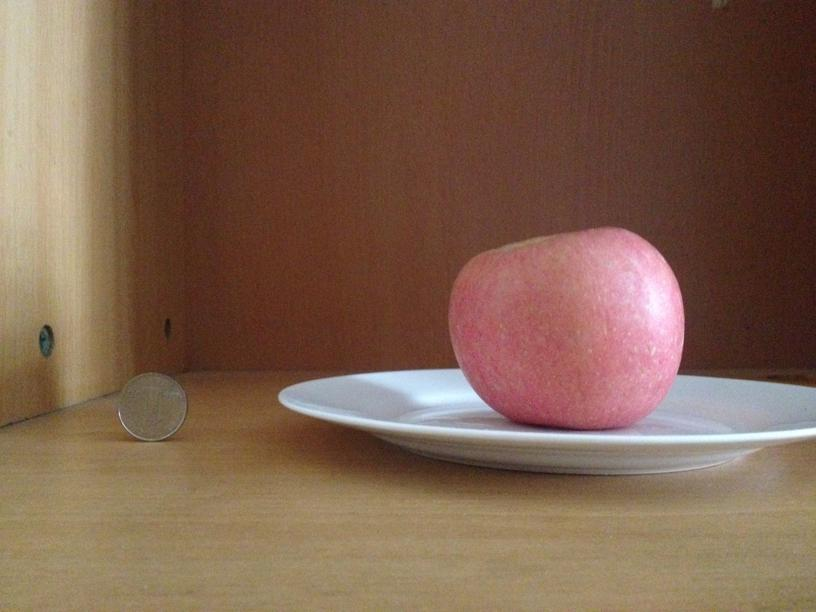apple: (448, 224, 685, 428)
coin: (116, 372, 187, 442)
